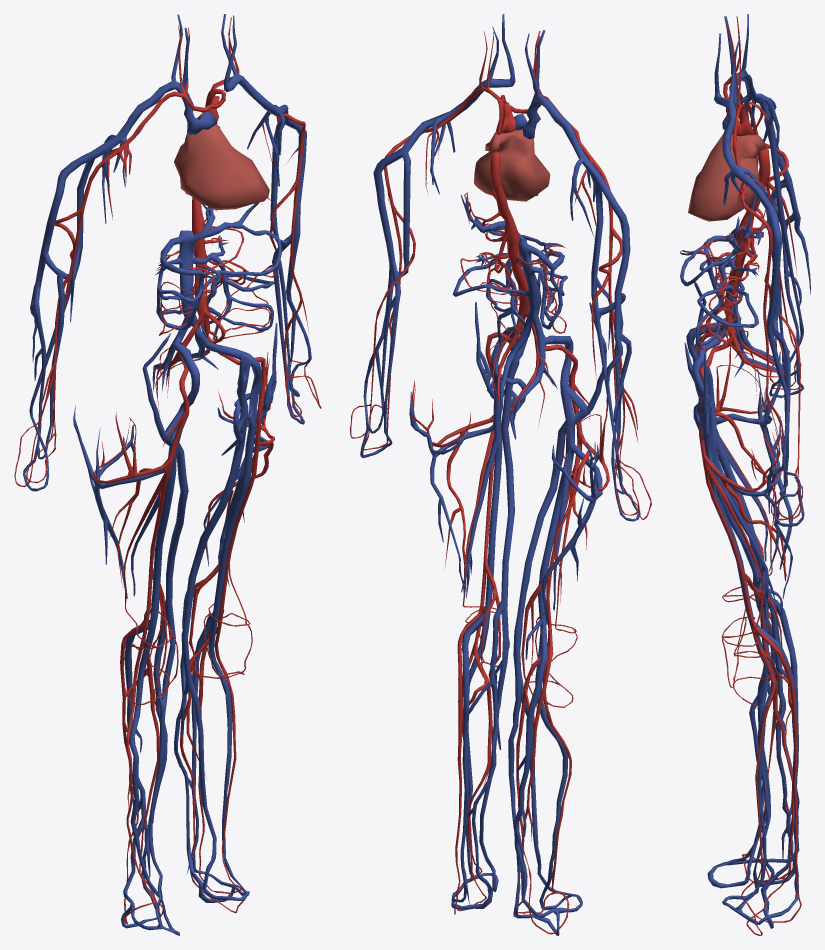
File: icrp_adult_male.cardiovascular.LOD3.glb
3 renders of one model, left to right at view 1: azimuth 30°, elevation 25°; view 2: azimuth 150°, elevation 25°; view 3: azimuth 270°, elevation 25°, orthographic. The views are drawn at different scales.
Visible parts, largest first — view 1: ICRP.ADULT.MALE.CARDIOVASCULAR.BLOOD_IN_LARGE_VEINS, ICRP.ADULT.MALE.CARDIOVASCULAR.BLOOD_IN_LARGE_ARTERIES, ICRP.ADULT.MALE.CARDIOVASCULAR.HEART_WALL; view 2: ICRP.ADULT.MALE.CARDIOVASCULAR.BLOOD_IN_LARGE_VEINS, ICRP.ADULT.MALE.CARDIOVASCULAR.BLOOD_IN_LARGE_ARTERIES, ICRP.ADULT.MALE.CARDIOVASCULAR.HEART_WALL; view 3: ICRP.ADULT.MALE.CARDIOVASCULAR.BLOOD_IN_LARGE_VEINS, ICRP.ADULT.MALE.CARDIOVASCULAR.BLOOD_IN_LARGE_ARTERIES, ICRP.ADULT.MALE.CARDIOVASCULAR.HEART_WALL.
Boxes of the visible parts, <box> form: ICRP.ADULT.MALE.CARDIOVASCULAR.BLOOD_IN_LARGE_VEINS: <box>23,14,311,935</box>; ICRP.ADULT.MALE.CARDIOVASCULAR.BLOOD_IN_LARGE_ARTERIES: <box>14,17,321,924</box>; ICRP.ADULT.MALE.CARDIOVASCULAR.HEART_WALL: <box>174,114,269,210</box>; ICRP.ADULT.MALE.CARDIOVASCULAR.BLOOD_IN_LARGE_VEINS: <box>360,14,640,935</box>; ICRP.ADULT.MALE.CARDIOVASCULAR.BLOOD_IN_LARGE_ARTERIES: <box>350,28,651,934</box>; ICRP.ADULT.MALE.CARDIOVASCULAR.HEART_WALL: <box>474,130,550,201</box>; ICRP.ADULT.MALE.CARDIOVASCULAR.BLOOD_IN_LARGE_VEINS: <box>680,14,810,928</box>; ICRP.ADULT.MALE.CARDIOVASCULAR.BLOOD_IN_LARGE_ARTERIES: <box>682,16,802,935</box>; ICRP.ADULT.MALE.CARDIOVASCULAR.HEART_WALL: <box>688,134,766,221</box>.
Bounding box in the file's own units: 0.5431 × 1.58 × 0.2106.
